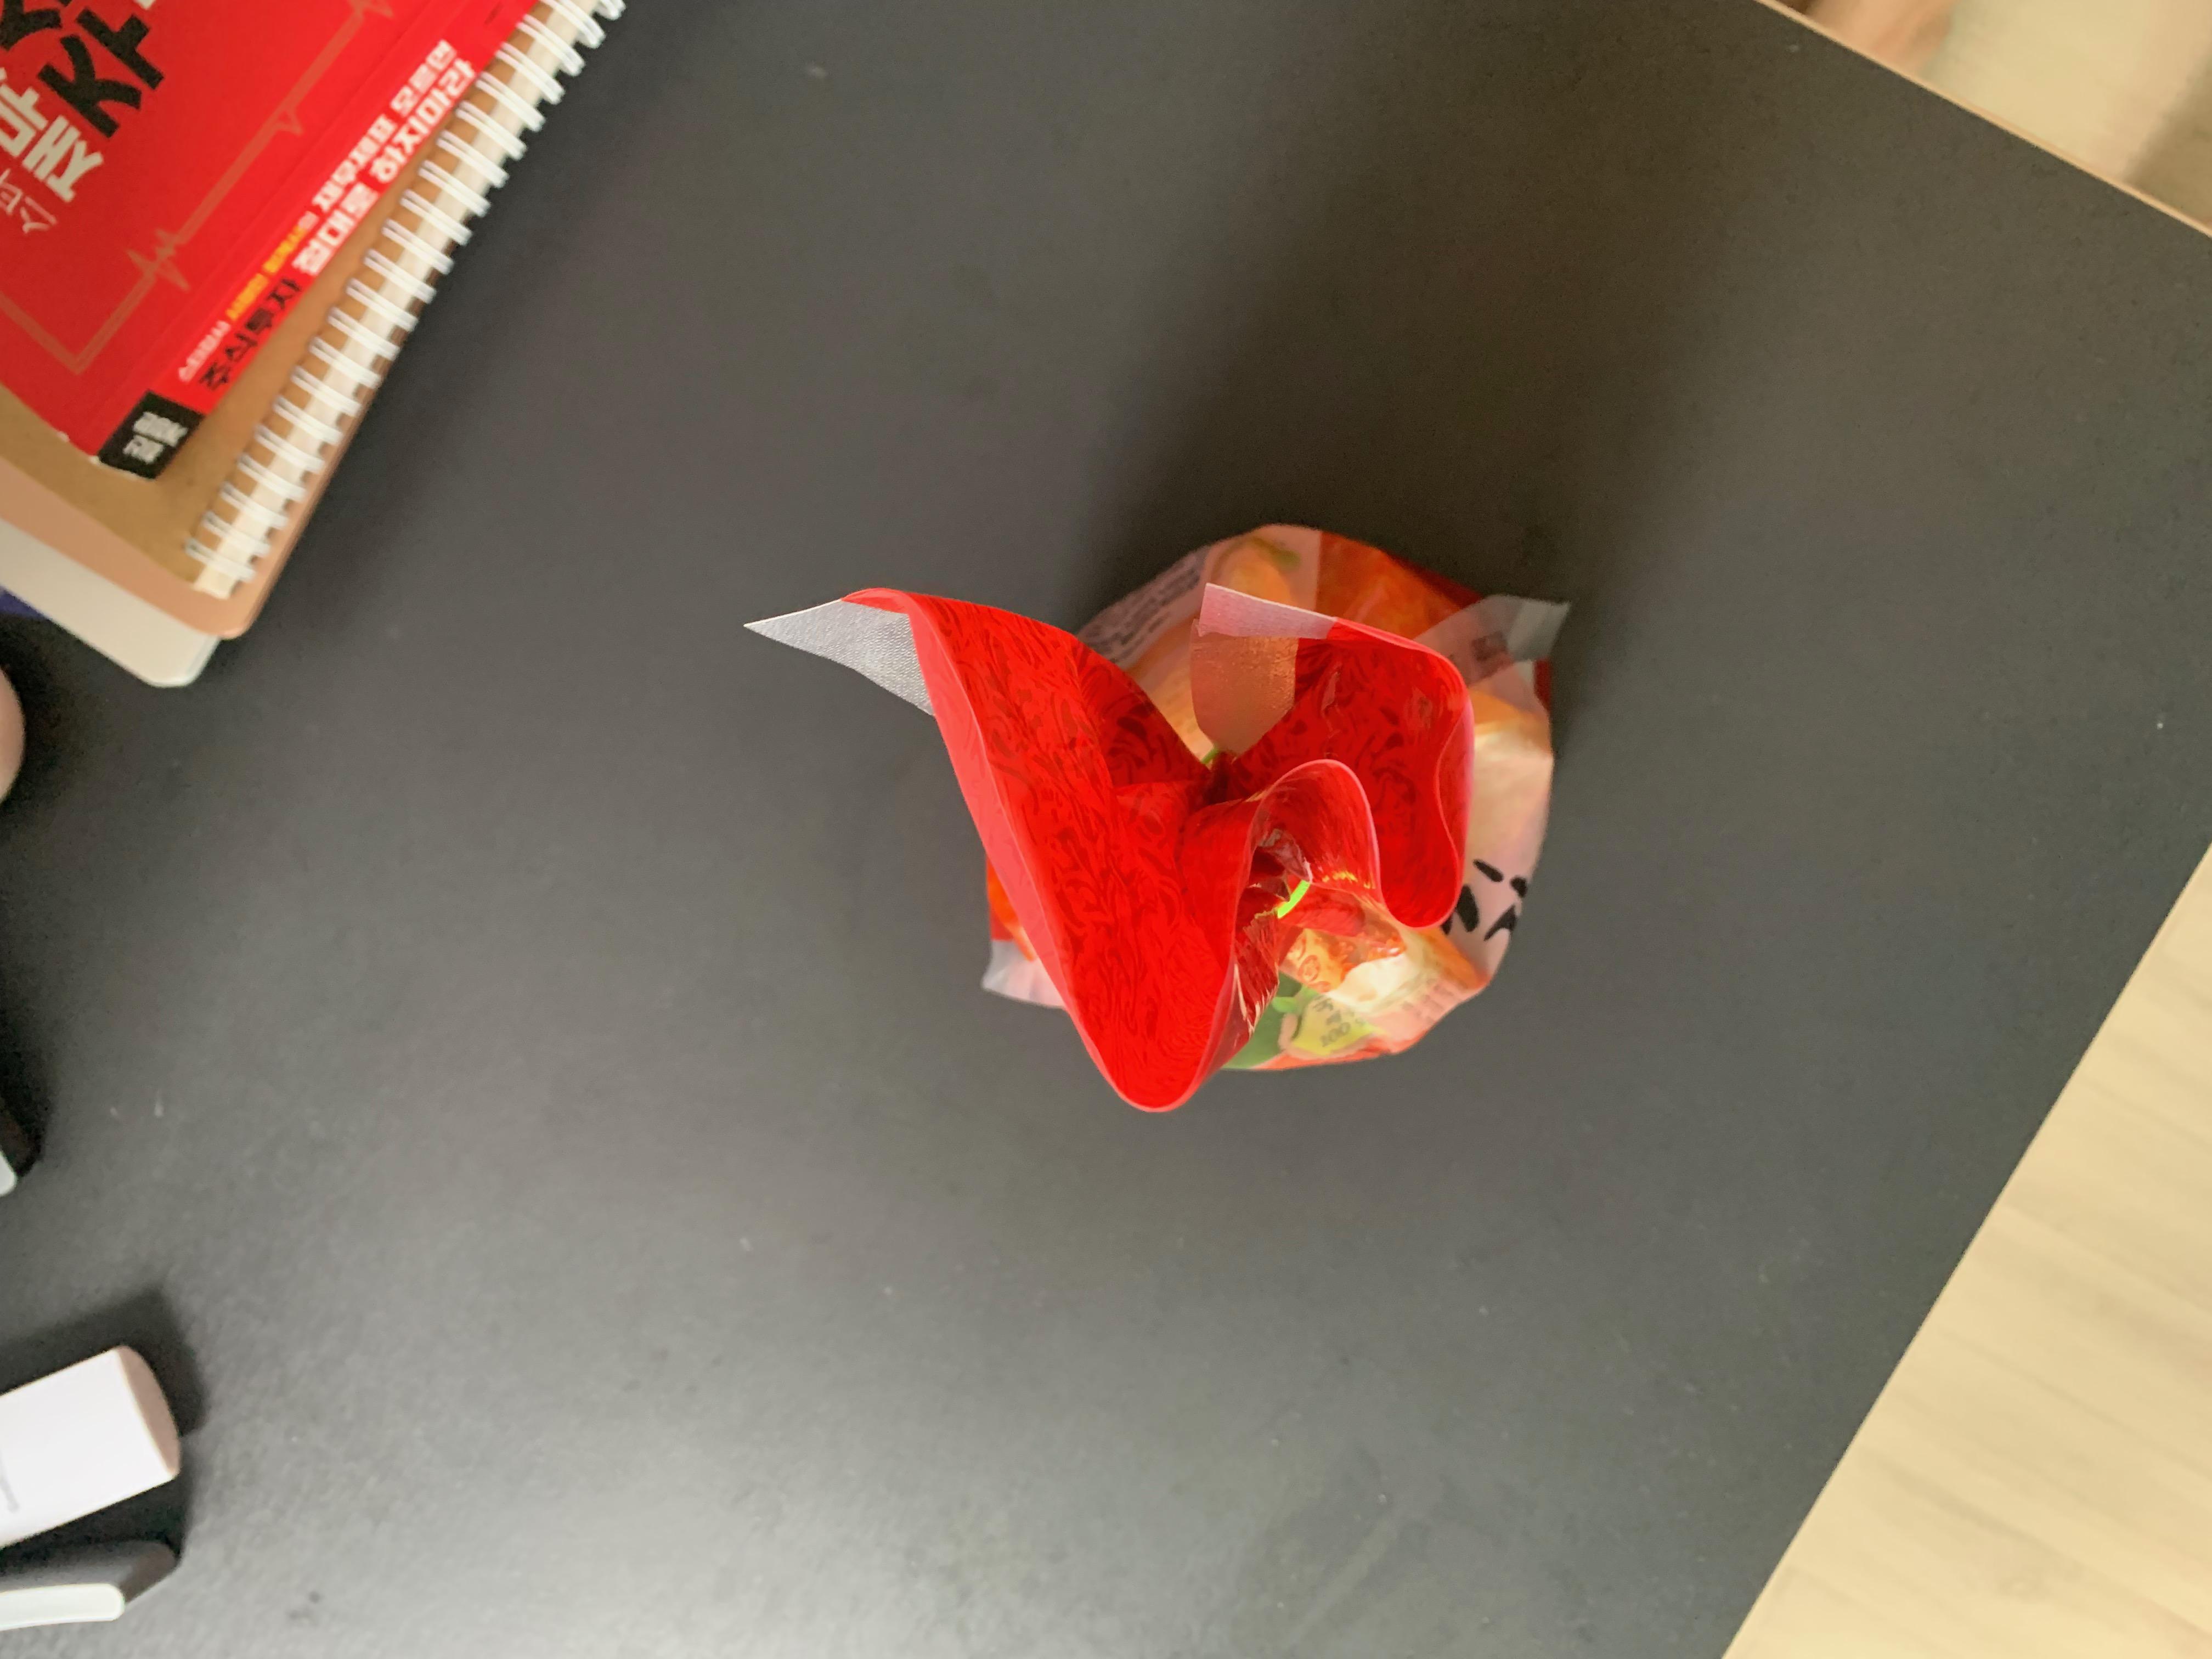kimchi: (909, 525, 1550, 1110)
